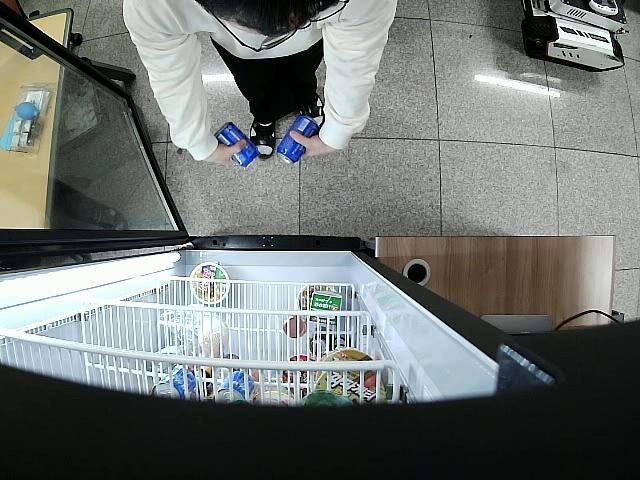13_pocariSweat: (214, 120, 260, 170), (276, 115, 314, 166)
